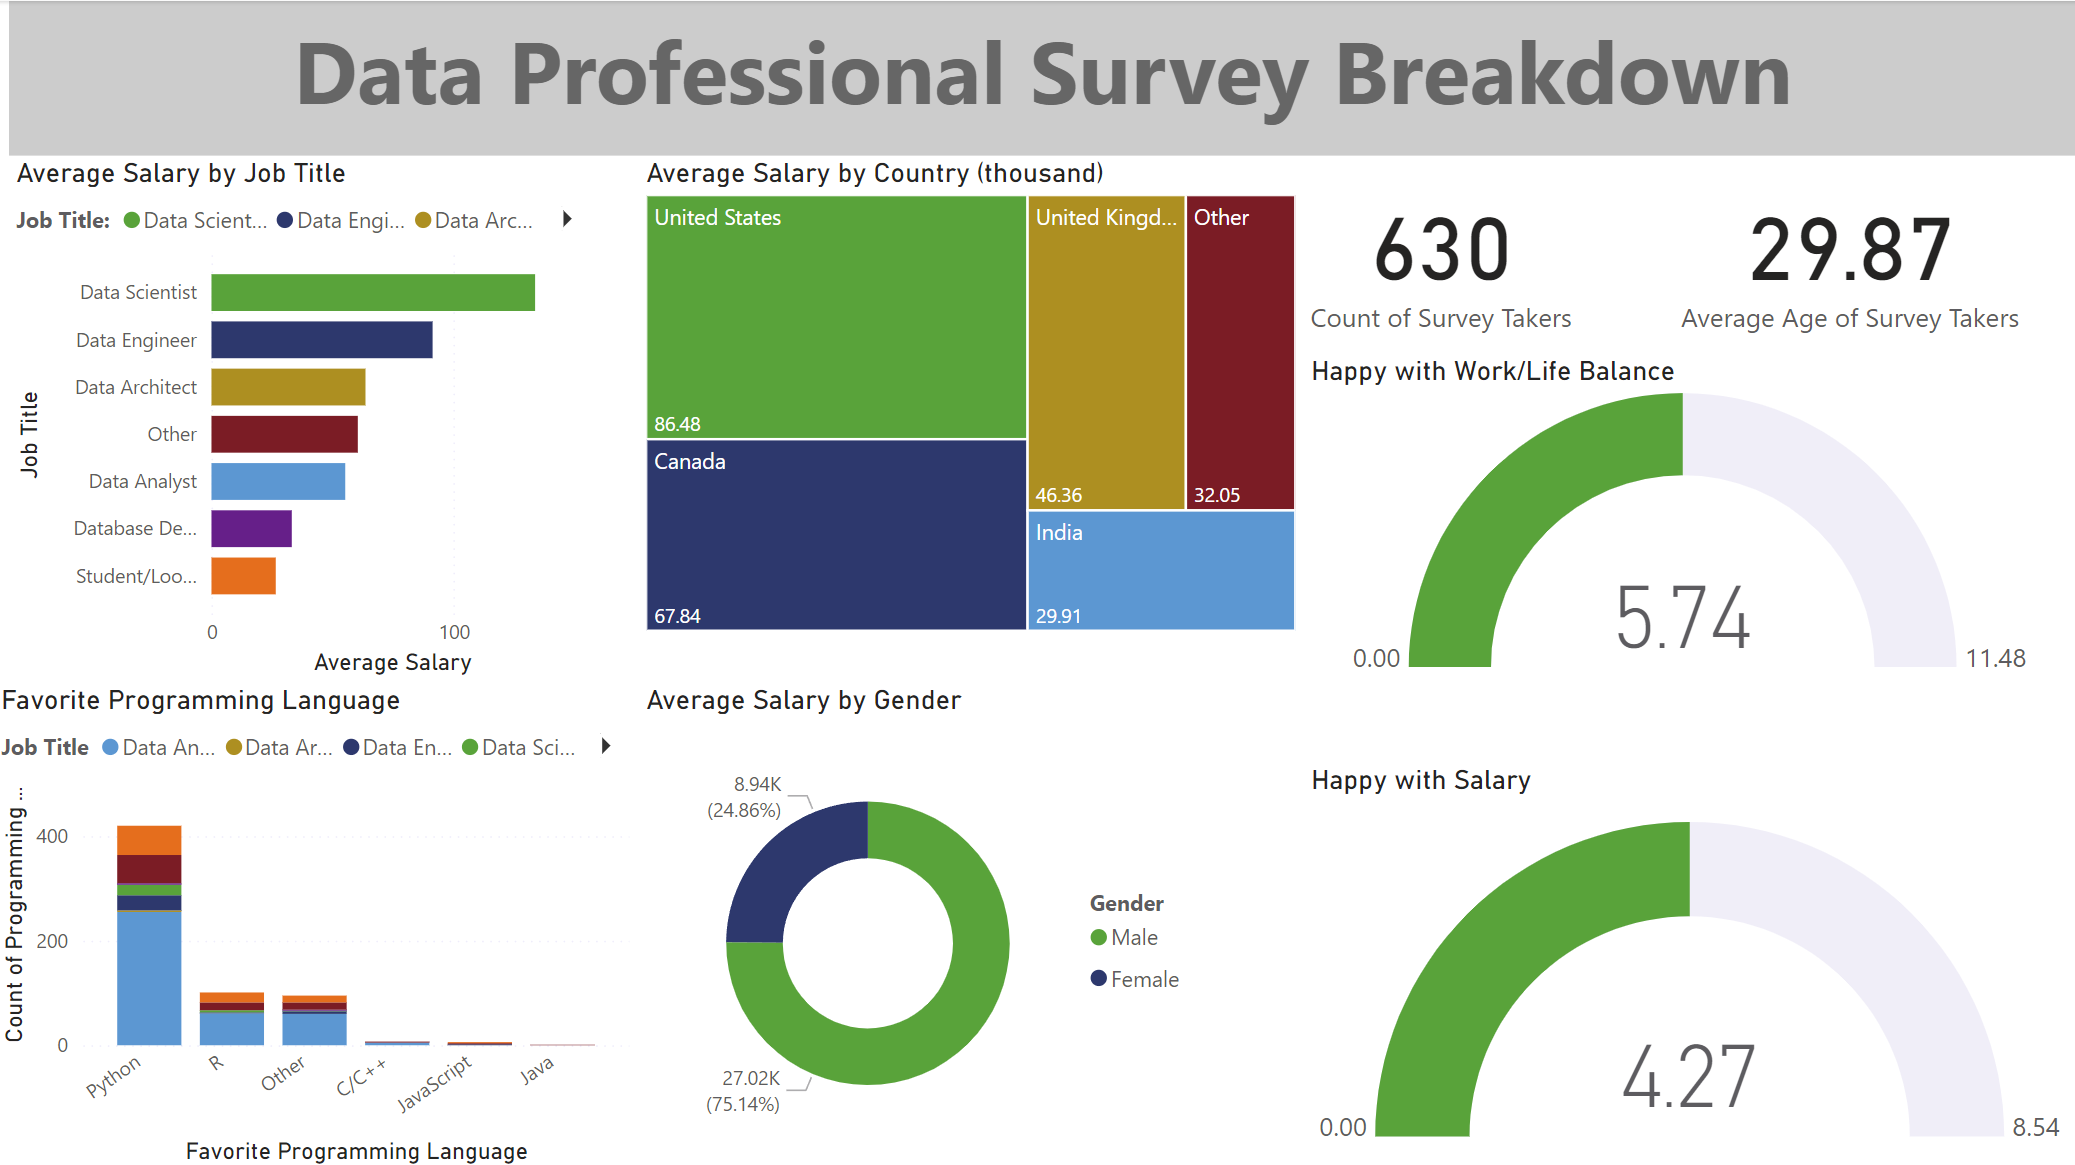

The dashboard page shown, as its layout file describes it:
{"tool":"powerbi","page":{"name":"Page 1","canvas":[1280,720],"ordinal":0},"visuals":[{"type":"textbox","box":[9.7,0,1270.3,95.5],"z":0},{"type":"card","fields":{"Values":["CountNonNull(Data Professional Survey.Unique ID)"]},"box":[750.5,95.2,277.9,121.5],"z":1000},{"type":"card","fields":{"Values":["Avg(Data Professional Survey.Q10 - Current Age)"]},"box":[1002.1,95.2,277.9,121.5],"z":2000},{"type":"barChart","title":"Average Salary by Job Title","fields":{"Category":["Data Professional Survey.Q1 - Which Title Best Fits your Current Role?.1"],"Series":["Data Professional Survey.Q1 - Which Title Best Fits your Current Role?.1"],"Y":["Avg(Data Professional Survey.Average Salary)"]},"box":[9.3,95.2,362.9,323.8],"z":3000},{"type":"columnChart","title":"Favorite Programming Language ","fields":{"Category":["Data Professional Survey.Q5 - Favorite Programming Language.1"],"Y":["CountNonNull(Data Professional Survey.Q5 - Favorite Programming Language.1)"],"Series":["Data Professional Survey.Q1 - Which Title Best Fits your Current Role?.1"]},"box":[0,419,396.1,300.9],"z":4000},{"type":"treemap","title":"Average Salary by Country (thousand)","fields":{"Group":["Data Professional Survey.Q11 - Which Country do you live in?.1"],"Values":["Avg(Data Professional Survey.Average Salary)"]},"box":[396.1,95.2,408.8,296.6],"z":5000},{"type":"gauge","title":"Happy with Work/Life Balance","fields":{"Y":["Avg(Data Professional Survey.Q6 - How Happy are you in your Current Position with the following? (Work/Life Balance))"]},"box":[804.9,216.7,475.1,202.3],"z":6000},{"type":"gauge","title":"Happy with Salary","fields":{"Y":["Avg(Data Professional Survey.Q6 - How Happy are you in your Current Position with the following? (Salary))"]},"box":[804.9,468.3,475.1,251.6],"z":7000},{"type":"donutChart","title":"Average Salary by Gender","fields":{"Y":["Sum(Data Professional Survey.Average Salary)"],"Category":["Data Professional Survey.Q9 - Male/Female?"]},"box":[396.1,419,348.5,300.9],"z":8000}]}

Visuals, with their boxes in screenshot pixels (x1, y1, x2, y2), scaled from the page's 1280x720 canvas onto the 2075x1165 screenshot:
textbox: <box>16,0,2074,155</box>
card - CountNonNull(Data Professional Survey.Unique ID): <box>1217,154,1667,351</box>
card - Avg(Data Professional Survey.Q10 - Current Age): <box>1624,154,2074,351</box>
"Average Salary by Job Title" barChart: <box>15,154,603,678</box>
"Favorite Programming Language " columnChart: <box>0,678,642,1164</box>
"Average Salary by Country (thousand)" treemap: <box>642,154,1305,634</box>
"Happy with Work/Life Balance" gauge: <box>1305,351,2074,678</box>
"Happy with Salary" gauge: <box>1305,758,2074,1164</box>
"Average Salary by Gender" donutChart: <box>642,678,1207,1164</box>
